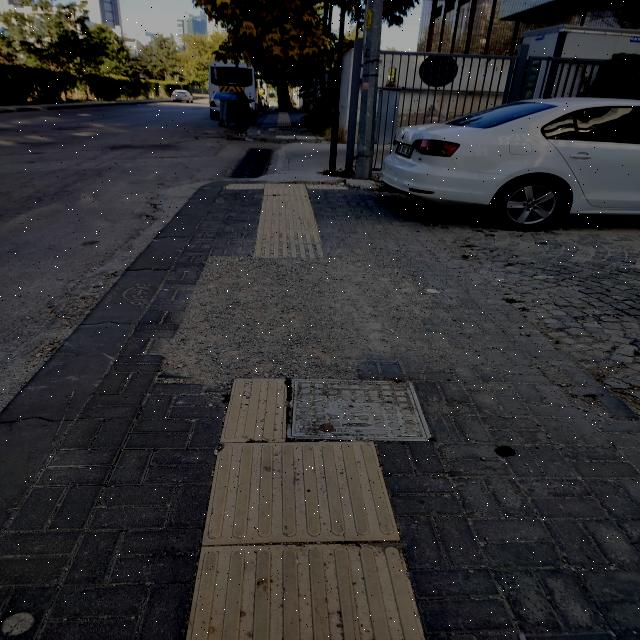sidewalk: (3, 180, 637, 640)
